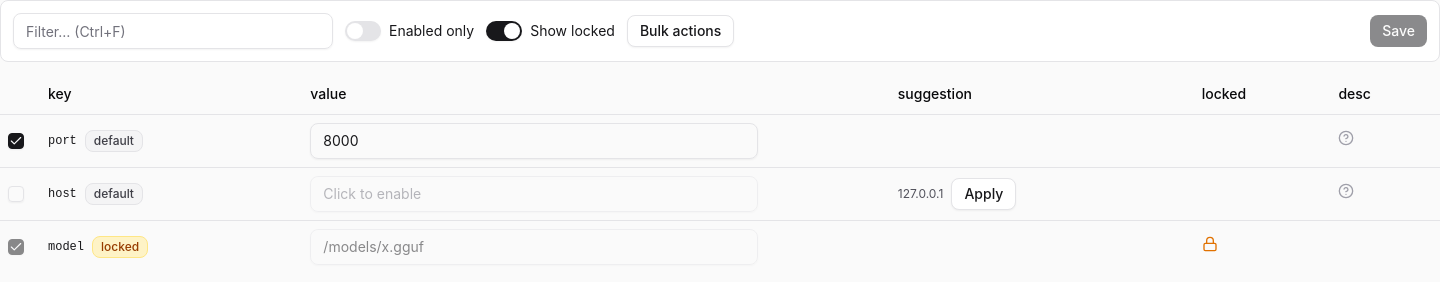
Scenario: ParamGrid › apply all suggestions applies matching recs
Step 1. Click the button "Bulk actions" → (681, 31), box [627,15,734,47]
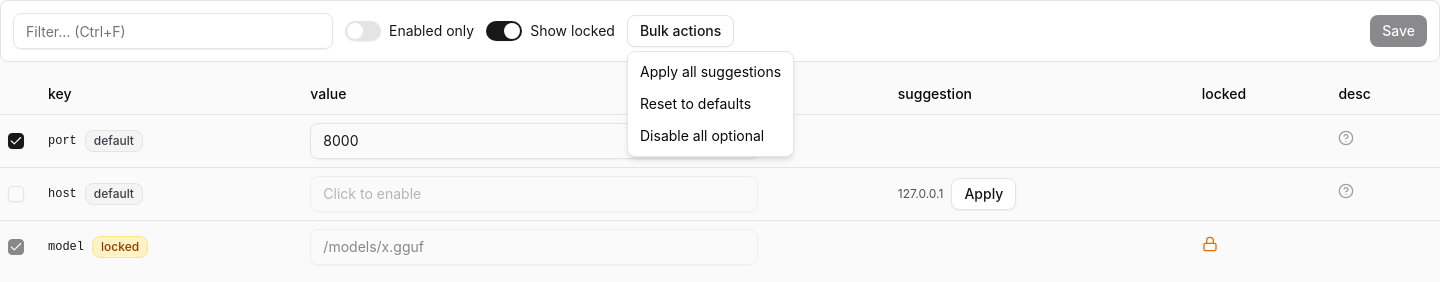
Step 2. Click the menu item "Apply all suggestions" → (711, 72), box [640,63,781,80]
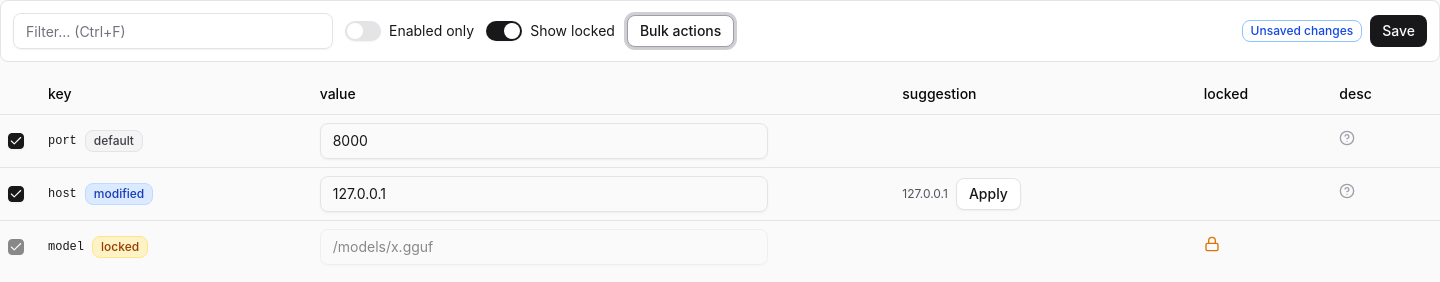
Check: the field named "host value" holds "127.0.0.1", box [320,176,768,212]
